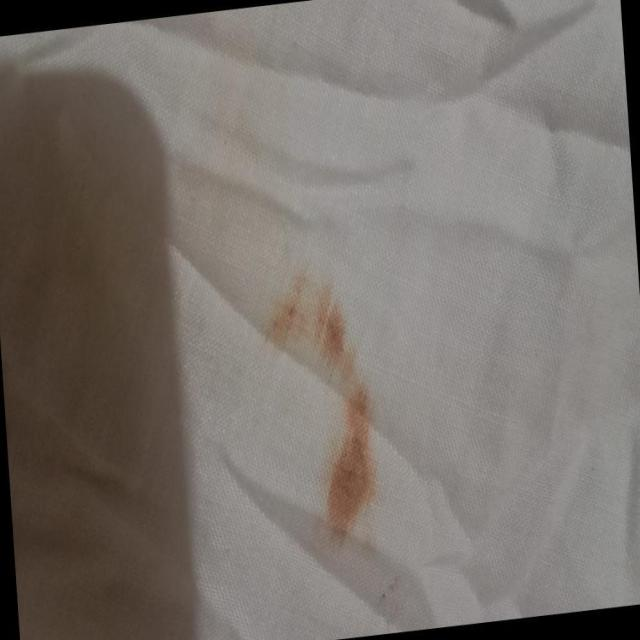stain: (255, 240, 377, 558)
